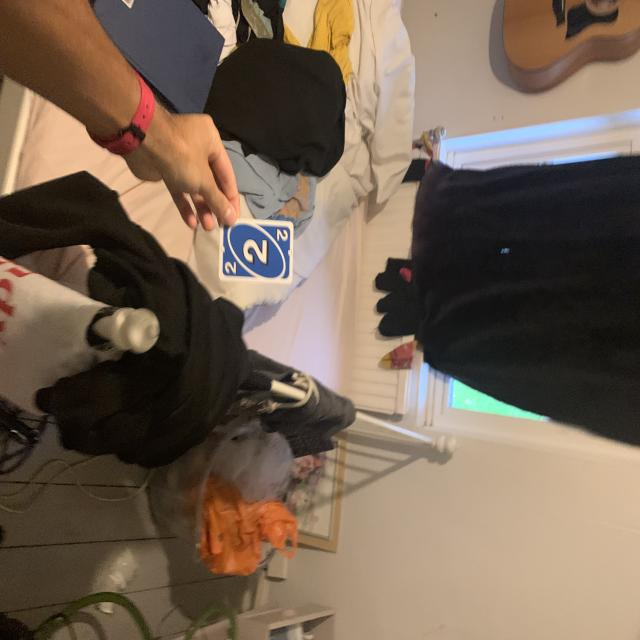lblue-2: (274, 226, 290, 244)
